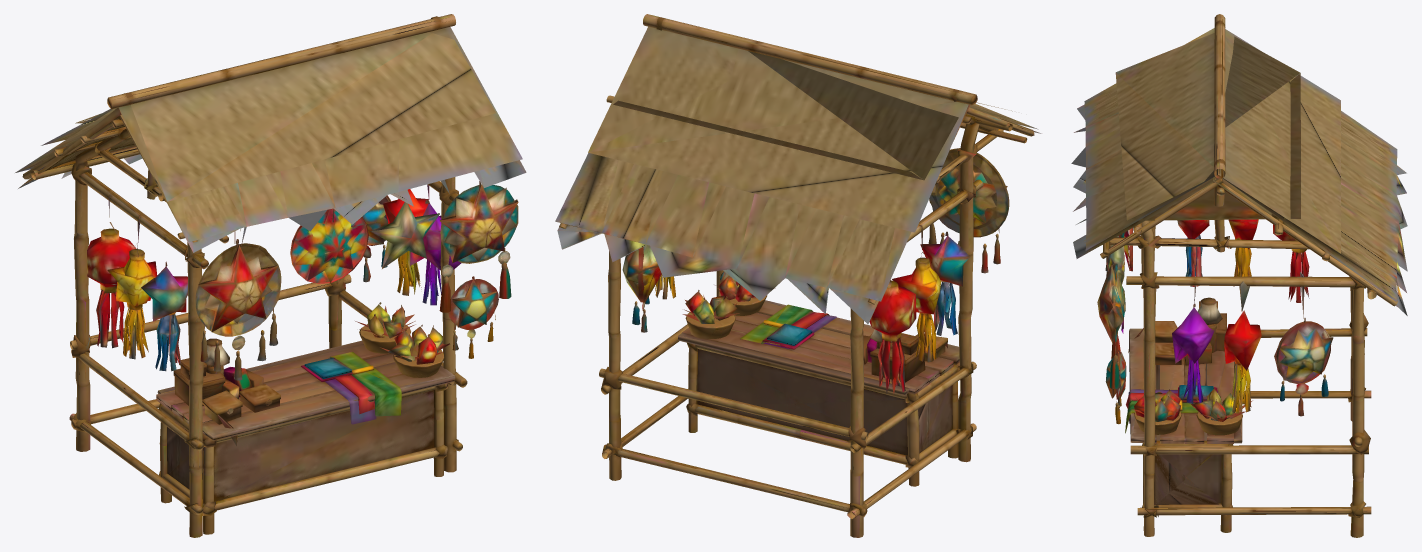
Rendered from lantern-stall.glb.
The picture shows the model from 3 angles, left to right: view 1: azimuth 30°, elevation 25°; view 2: azimuth 150°, elevation 25°; view 3: azimuth 270°, elevation 25°; orthographic projection. The views are drawn at different scales.
Visible parts, largest first — view 1: geometry_0; view 2: geometry_0; view 3: geometry_0.
Part boxes in pixels (x1,y1,x2,y2): geometry_0: (15, 14, 526, 537); geometry_0: (555, 14, 1041, 537); geometry_0: (1071, 14, 1407, 537).
Size of the model in its own units: 0.8394 by 0.9526 by 0.7476.
Materials: 1 (1 with a texture image).
